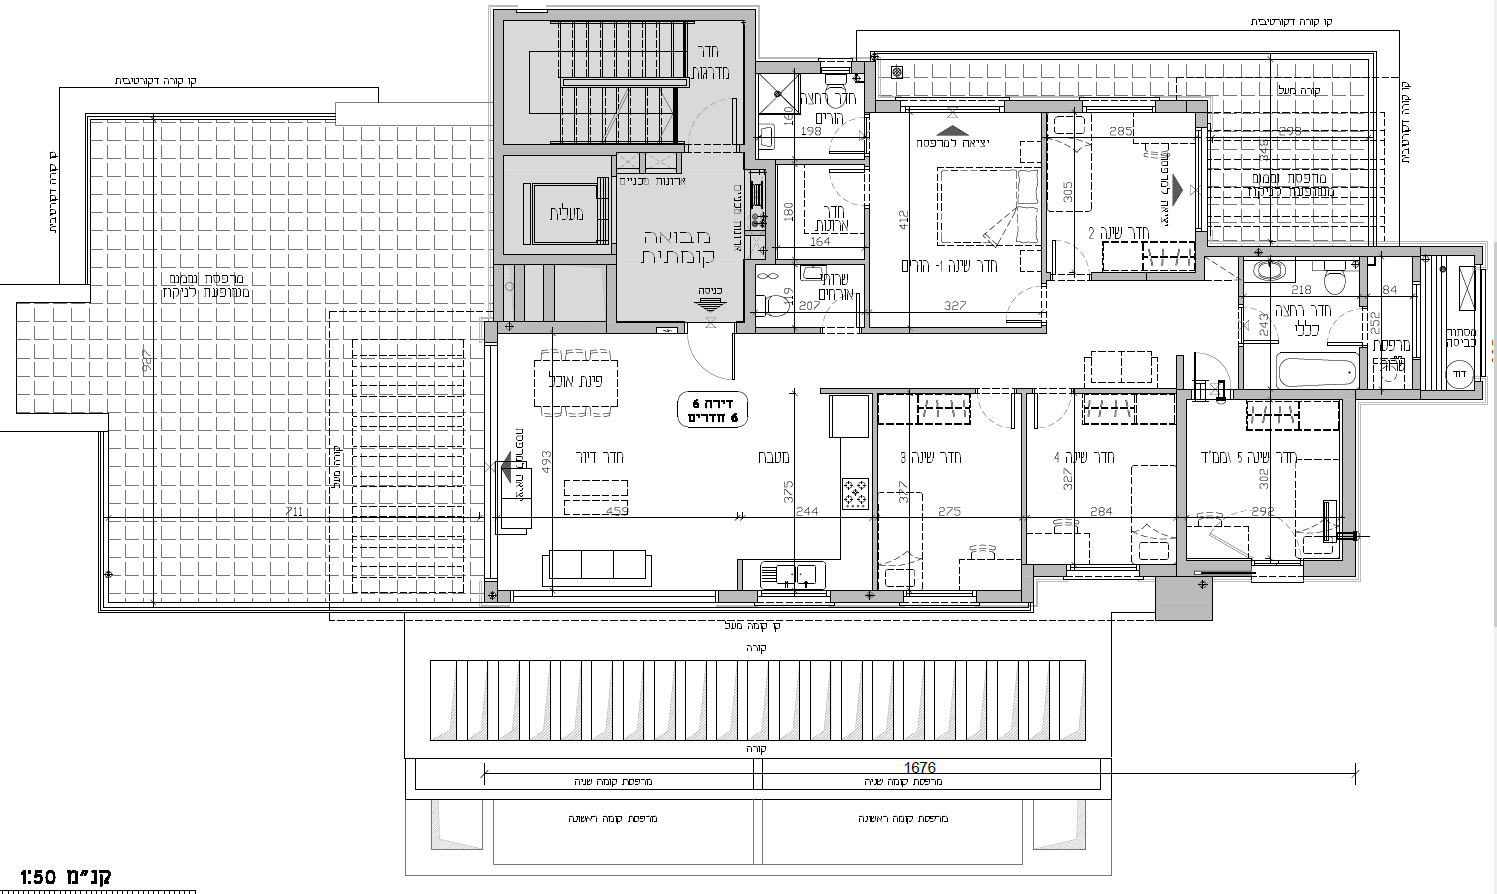door: (680, 336, 744, 390), (1310, 307, 1358, 352), (1243, 303, 1291, 348), (1028, 394, 1075, 435), (1049, 231, 1096, 272), (819, 116, 866, 158), (993, 284, 1039, 325), (815, 167, 862, 208), (974, 395, 1017, 432)
wall: (1196, 247, 1420, 254)
window: (482, 341, 498, 580), (509, 590, 718, 605), (1195, 126, 1210, 230), (900, 97, 1004, 112), (901, 590, 976, 608), (1066, 563, 1141, 581), (1249, 560, 1303, 582), (756, 591, 831, 606), (1083, 97, 1157, 111), (821, 57, 852, 74)
